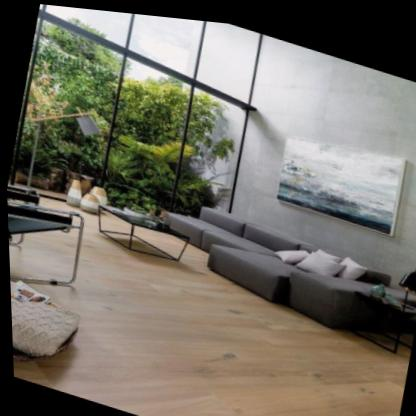Wooden floor: (10, 192, 410, 416)
